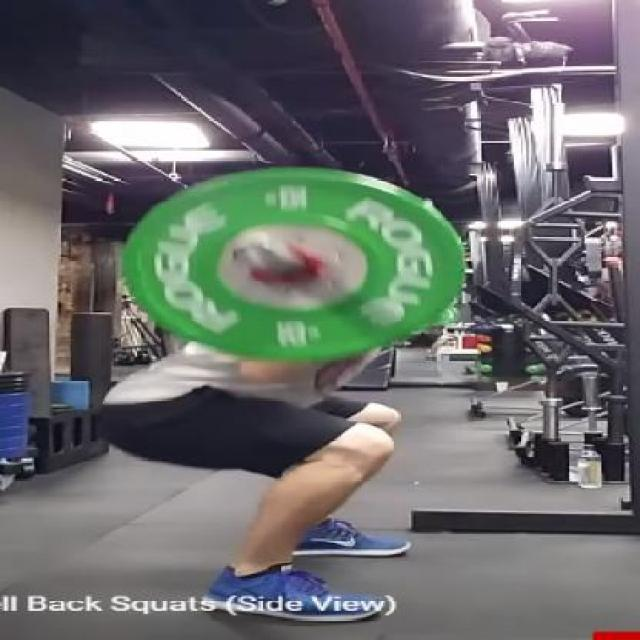Barbell: (236, 230, 304, 276)
